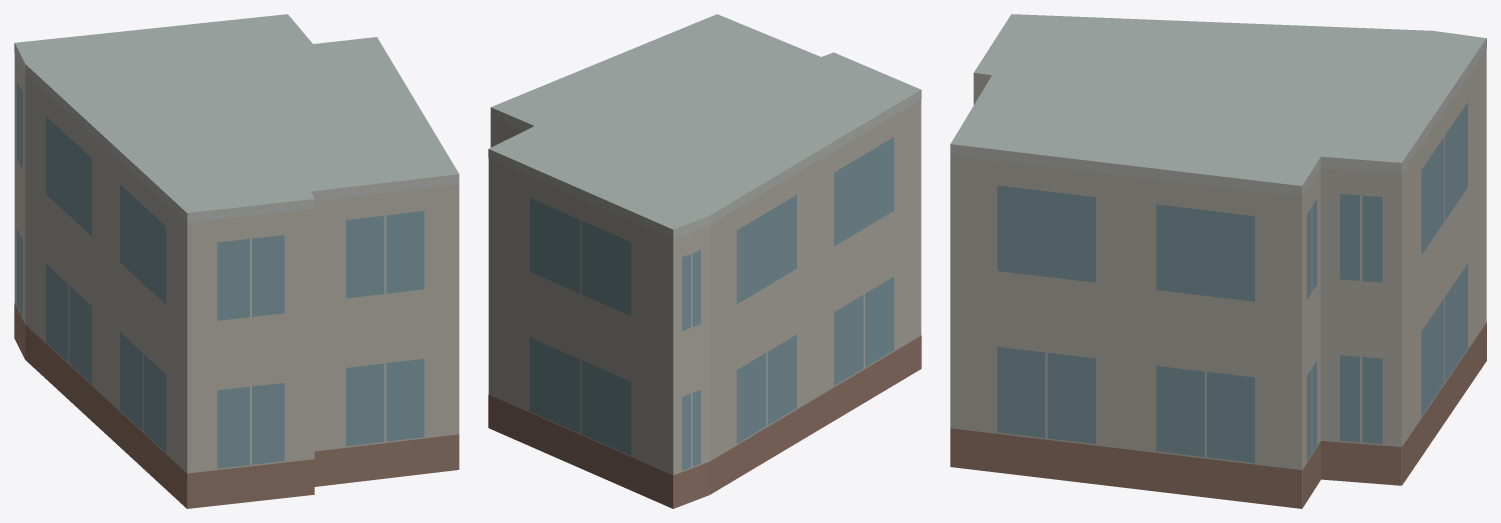
The model's file is survey-upis-32501633.glb.
3 renders of one model, left to right at view 1: azimuth 30°, elevation 25°; view 2: azimuth 150°, elevation 25°; view 3: azimuth 270°, elevation 25°, orthographic. The views are drawn at different scales.
Visible parts, largest first — view 1: survey-upis-32501633.tmp; view 2: survey-upis-32501633.tmp; view 3: survey-upis-32501633.tmp.
Boxes of the visible parts, x1,y1,x2,y2 form: survey-upis-32501633.tmp: [14, 14, 459, 508]; survey-upis-32501633.tmp: [488, 14, 921, 508]; survey-upis-32501633.tmp: [950, 14, 1486, 508].
Size of the model in its own units: 8.24 by 7.2 by 10.85.
